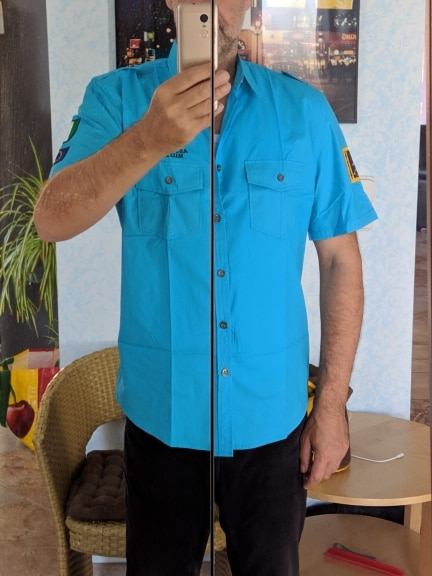shirts: (77, 52, 378, 450)
